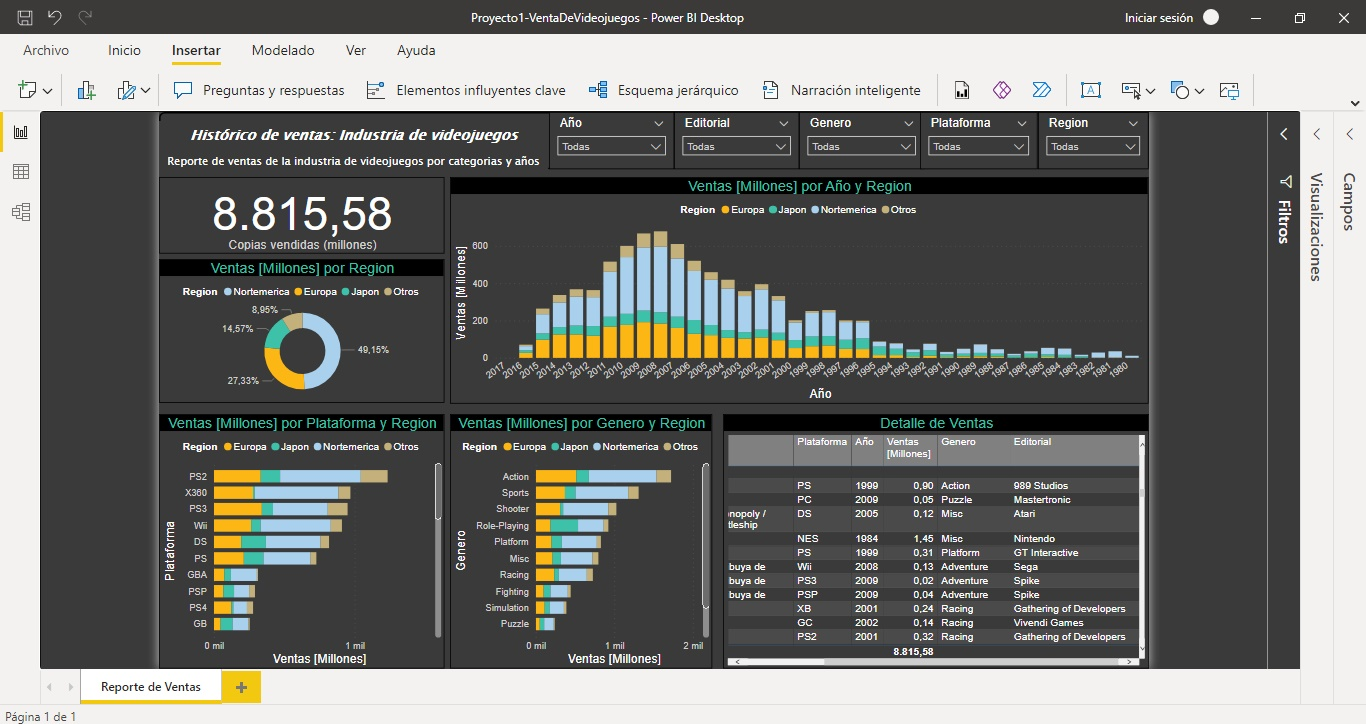

Layout of this report page (visuals, bound fields, positions):
{"tool":"powerbi","page":{"name":"Reporte de Ventas","canvas":[1280,720],"ordinal":0},"visuals":[{"type":"shape","box":[0,0,1279.5,73.8],"z":0},{"type":"tableEx","title":"Detalle de Ventas","fields":{"Values":["Ventas Videojuegos.Nombre","Ventas Videojuegos.Plataforma","Ventas Videojuegos.Año","Sum(Ventas Videojuegos.Ventas [Millones])","Ventas Videojuegos.Genero","Ventas Videojuegos.Editorial"]},"box":[728.5,390.5,551,329.5],"z":1000},{"type":"columnChart","fields":{"Category":["Ventas Videojuegos.Año"],"Y":["Sum(Ventas Videojuegos.Ventas [Millones])"],"Series":["Ventas Videojuegos.Region"]},"box":[376.3,83.8,903.2,292.5],"z":2000},{"type":"donutChart","fields":{"Category":["Ventas Videojuegos.Region"],"Y":["Sum(Ventas Videojuegos.Ventas [Millones])"]},"box":[0,190.3,369.2,186],"z":3000},{"type":"barChart","fields":{"Category":["Ventas Videojuegos.Plataforma"],"Y":["Sum(Ventas Videojuegos.Ventas [Millones])"],"Series":["Ventas Videojuegos.Region"]},"box":[0,390.5,369.2,329.5],"z":4000},{"type":"card","fields":{"Values":["Sum(Ventas Videojuegos.Ventas [Millones])"]},"box":[0,83.8,369.2,99.4],"z":5000},{"type":"slicer","fields":{"Values":["Ventas Videojuegos.Año"]},"box":[504.1,0,161.9,73.8],"z":6000},{"type":"slicer","fields":{"Values":["Ventas Videojuegos.Editorial"]},"box":[666,0,161.9,73.8],"z":7000},{"type":"slicer","fields":{"Values":["Ventas Videojuegos.Genero"]},"box":[827.9,0,161.9,73.8],"z":8000},{"type":"slicer","fields":{"Values":["Ventas Videojuegos.Plataforma"]},"box":[984.1,0,152,73.8],"z":9000},{"type":"slicer","fields":{"Values":["Ventas Videojuegos.Region"]},"box":[1136.1,0,143.4,73.8],"z":10000},{"type":"barChart","fields":{"Y":["Sum(Ventas Videojuegos.Ventas [Millones])"],"Series":["Ventas Videojuegos.Region"],"Category":["Ventas Videojuegos.Genero"]},"box":[376.3,390.5,339.4,329.5],"z":11000},{"type":"textbox","box":[0,11.4,502.7,38.3],"z":11001},{"type":"textbox","box":[0,37.2,502.2,46.8],"z":11002}]}

Visuals, with their boxes on the page's 1280x720 design canvas (x1, y1, x2, y2). These are canvas units, not pixel positions in the 1366x724 screenshot, which may show the page scaled, cropped or inside an application window:
shape: box(0, 0, 1280, 74)
"Detalle de Ventas" tableEx: box(728, 390, 1280, 720)
columnChart - Ventas Videojuegos.Año x Sum(Ventas Videojuegos.Ventas [Millones]): box(376, 84, 1280, 376)
donutChart - Ventas Videojuegos.Region x Sum(Ventas Videojuegos.Ventas [Millones]): box(0, 190, 369, 376)
barChart - Ventas Videojuegos.Plataforma x Sum(Ventas Videojuegos.Ventas [Millones]): box(0, 390, 369, 720)
card - Sum(Ventas Videojuegos.Ventas [Millones]): box(0, 84, 369, 183)
slicer - Ventas Videojuegos.Año: box(504, 0, 666, 74)
slicer - Ventas Videojuegos.Editorial: box(666, 0, 828, 74)
slicer - Ventas Videojuegos.Genero: box(828, 0, 990, 74)
slicer - Ventas Videojuegos.Plataforma: box(984, 0, 1136, 74)
slicer - Ventas Videojuegos.Region: box(1136, 0, 1280, 74)
barChart - Sum(Ventas Videojuegos.Ventas [Millones]) x Ventas Videojuegos.Region: box(376, 390, 716, 720)
textbox: box(0, 11, 503, 50)
textbox: box(0, 37, 502, 84)
